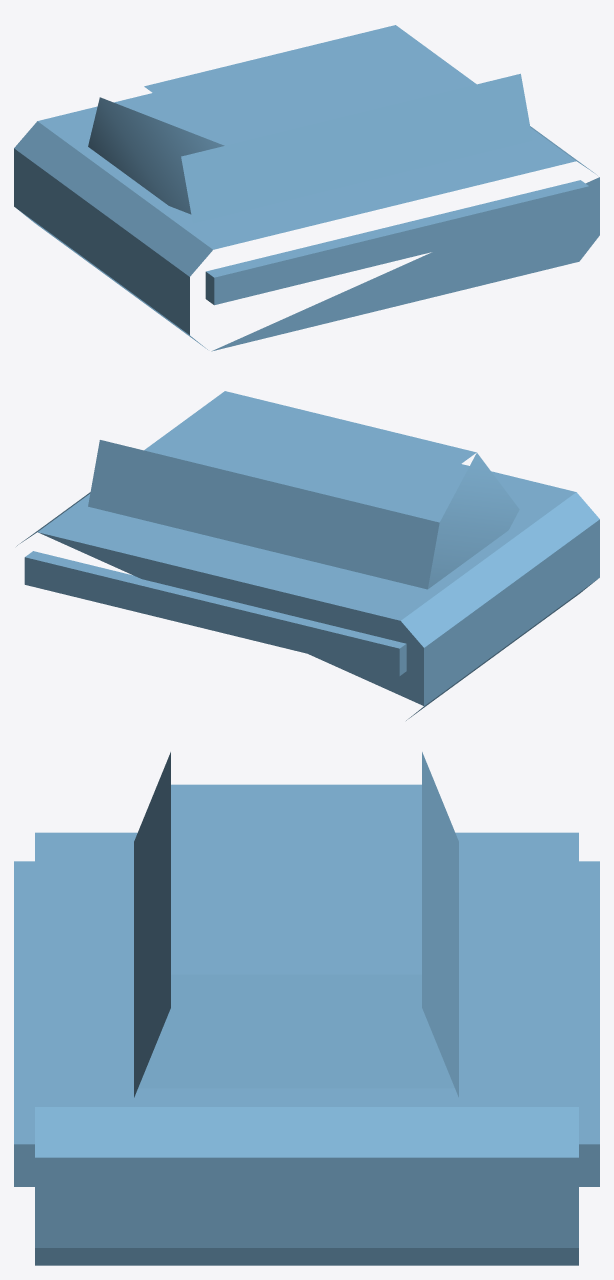
Rendered from basic_car.body.glb.
3 renders of one model, top to bottom at view 1: azimuth 30°, elevation 25°; view 2: azimuth 150°, elevation 25°; view 3: azimuth 270°, elevation 25°, orthographic. The views are drawn at different scales.
Parts seen in each view (by area): view 1: basic_car body; view 2: basic_car body; view 3: basic_car body.
Boxes of the visible parts, box(x1,y1,x2,y2) form: basic_car body: box(14, 25, 599, 351); basic_car body: box(16, 391, 599, 720); basic_car body: box(14, 752, 599, 1265).
Bounding box in the file's own units: 1.4 × 0.52 × 1.12.
